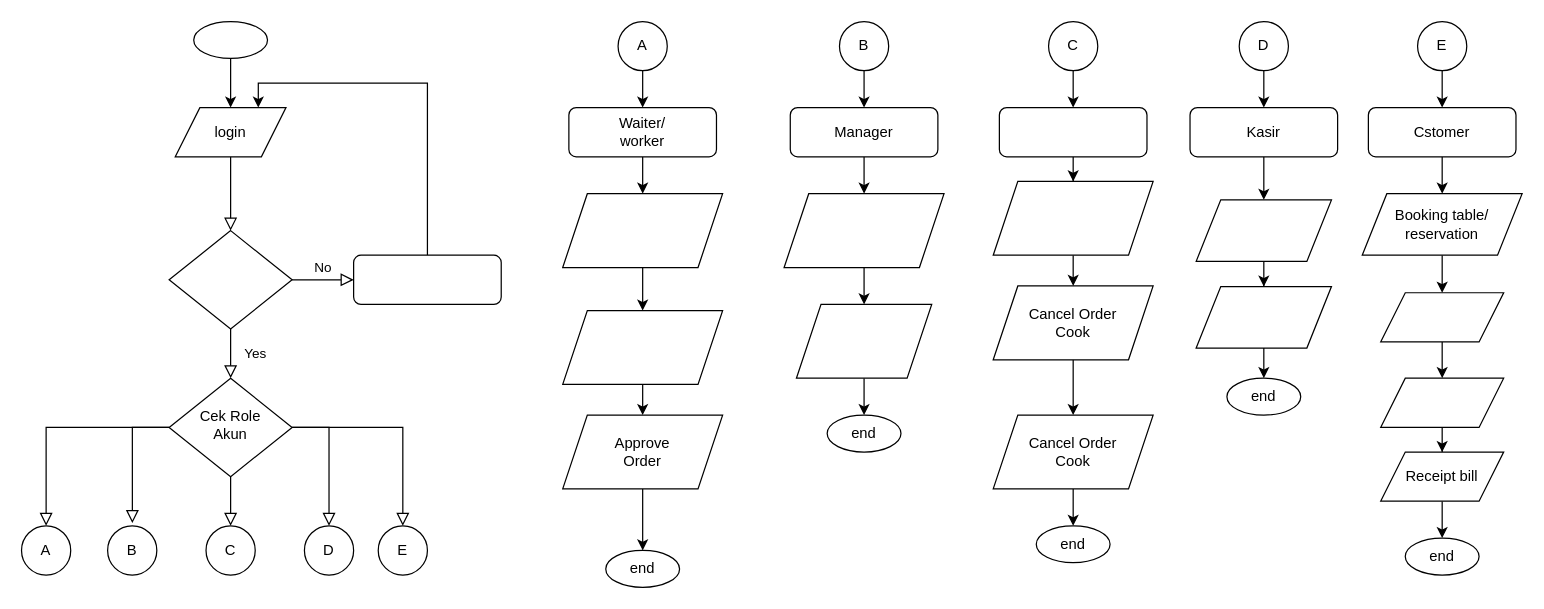
The diagram is 1544 pixels wide and 609 high, and some of its shapes have lost their labels. Here are the shapes that lost their labels. From the top down, the centre of each, then its label:
pixel 230 39: start
pixel 1072 131: Chef
pixel 642 230: Food Stuff Control
pixel 863 230: Receive Monthly Report
pixel 1072 217: Receive Order Cook
pixel 1263 230: Payment Control
pixel 230 279: Punya Akun?
pixel 426 279: Sign Up
pixel 1263 316: Financial Control
pixel 1441 317: Order food
pixel 642 346: Inventory Control
pixel 863 340: Receive Daily Report
pixel 1441 402: Payment
